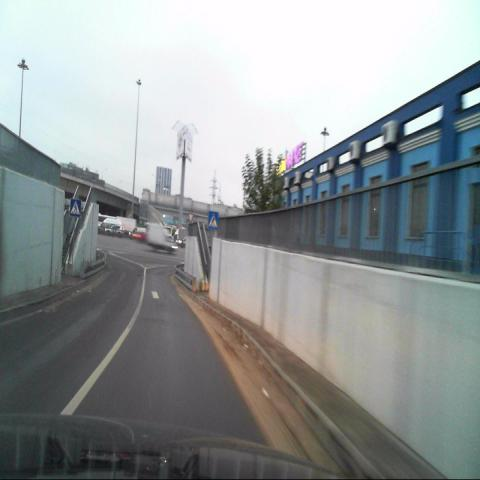5_19_1: (70, 198, 80, 217), (208, 210, 218, 228)
